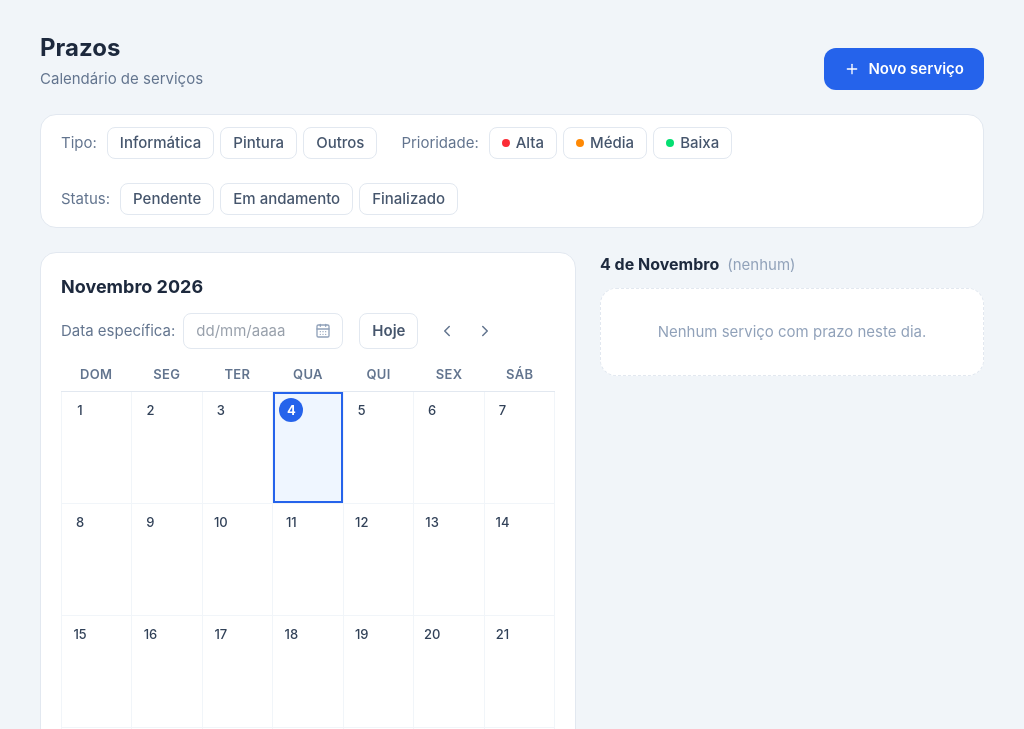
Test: calendário de Prazos › abre no mês atual, navega entre meses e "Hoje" volta para hoje
Expected: the text "Novembro 2026" is shown, x1=61 y1=273 x2=203 y2=301
Expected: the heading "4 de Novembro(nenhum)" is shown, x1=600 y1=254 x2=796 y2=274
Click the button named "Próximo mês": [485, 331] box x1=468 y1=314 x2=502 y2=348
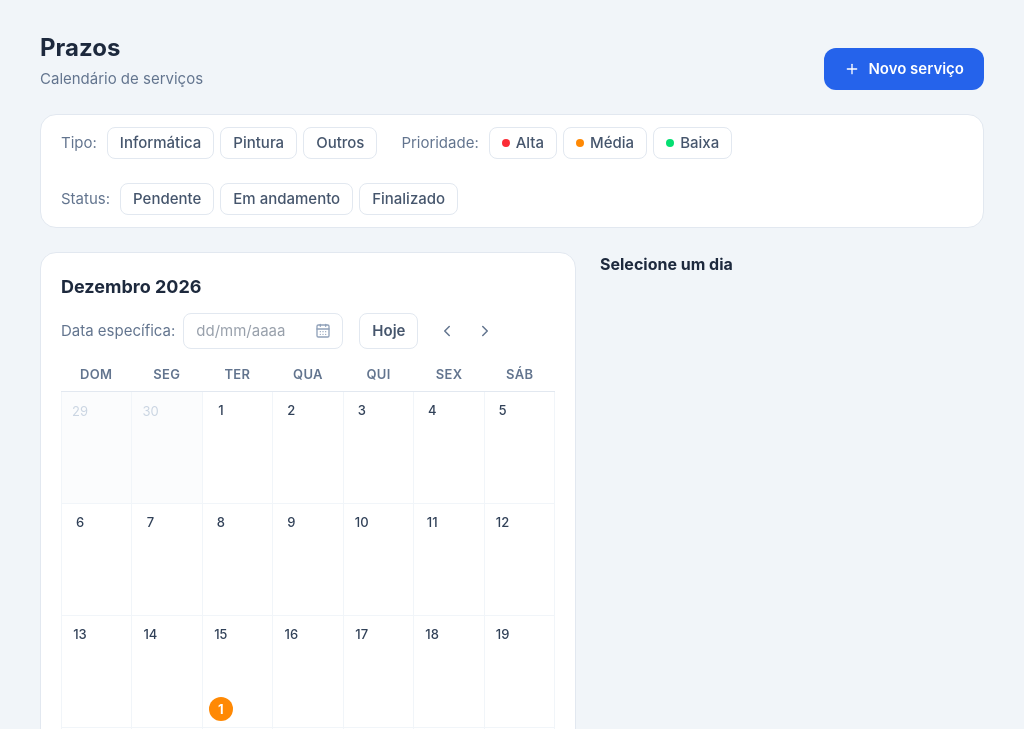
Now the text "Dezembro 2026" is shown, box x1=61 y1=273 x2=202 y2=301
Click the button named "Mês anterior": [447, 331] box x1=430 y1=314 x2=464 y2=348
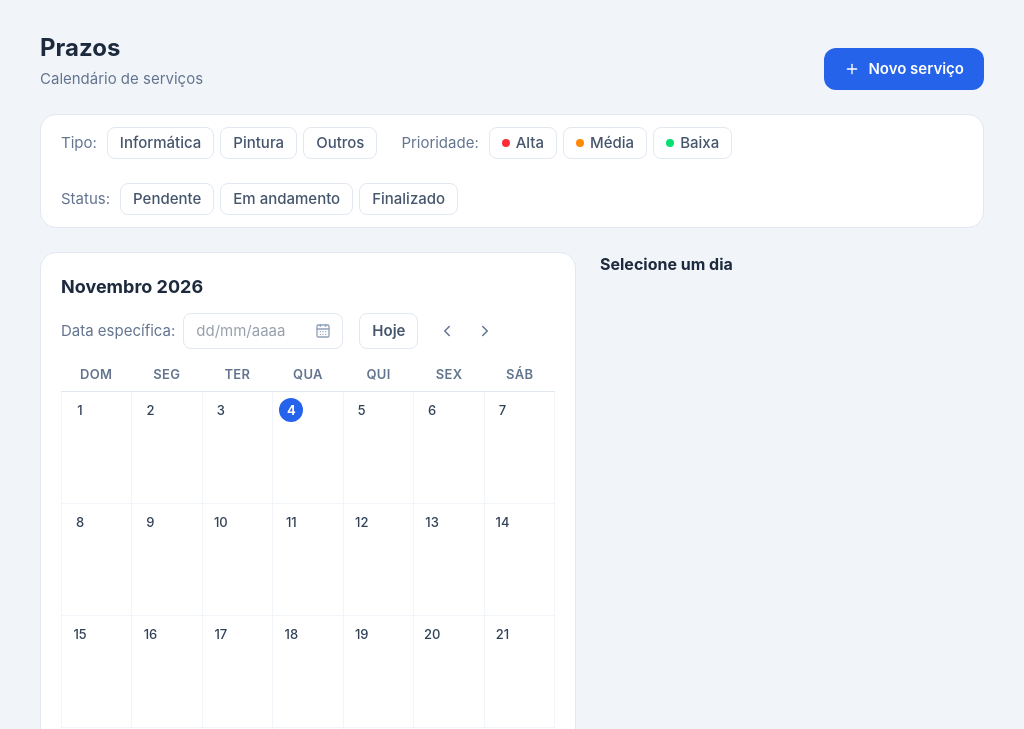
Click the button named "Mês anterior": [447, 331] box x1=430 y1=314 x2=464 y2=348
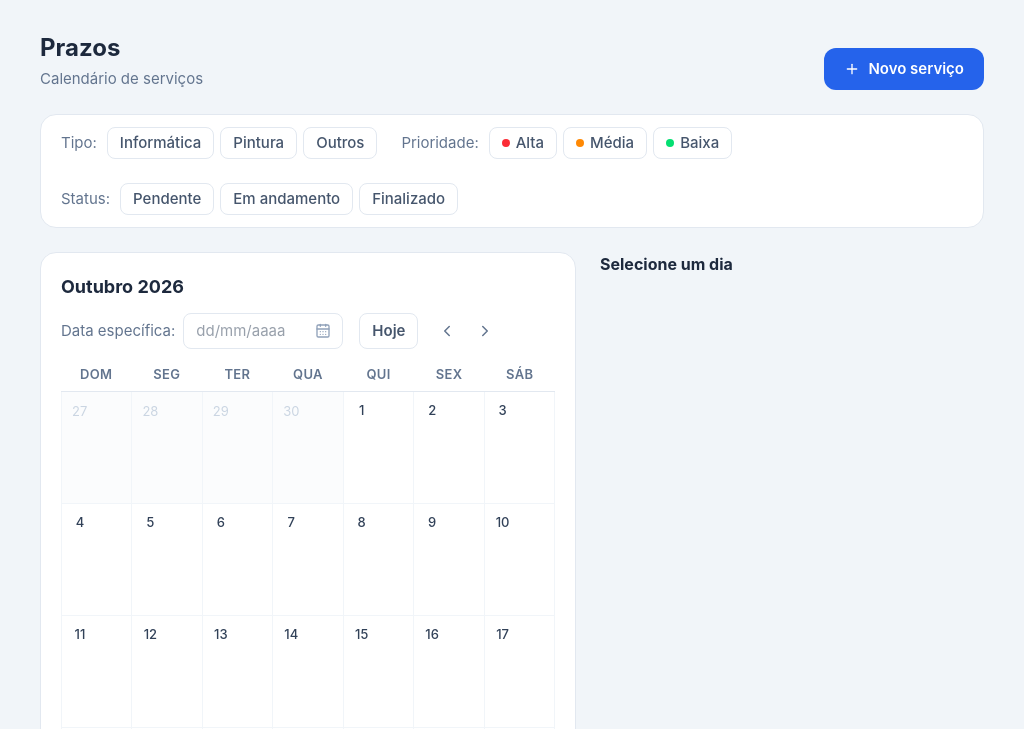
Now the text "Outubro 2026" is shown, box x1=61 y1=273 x2=184 y2=301
Click the button "Hoje": [389, 331] box x1=359 y1=313 x2=418 y2=349
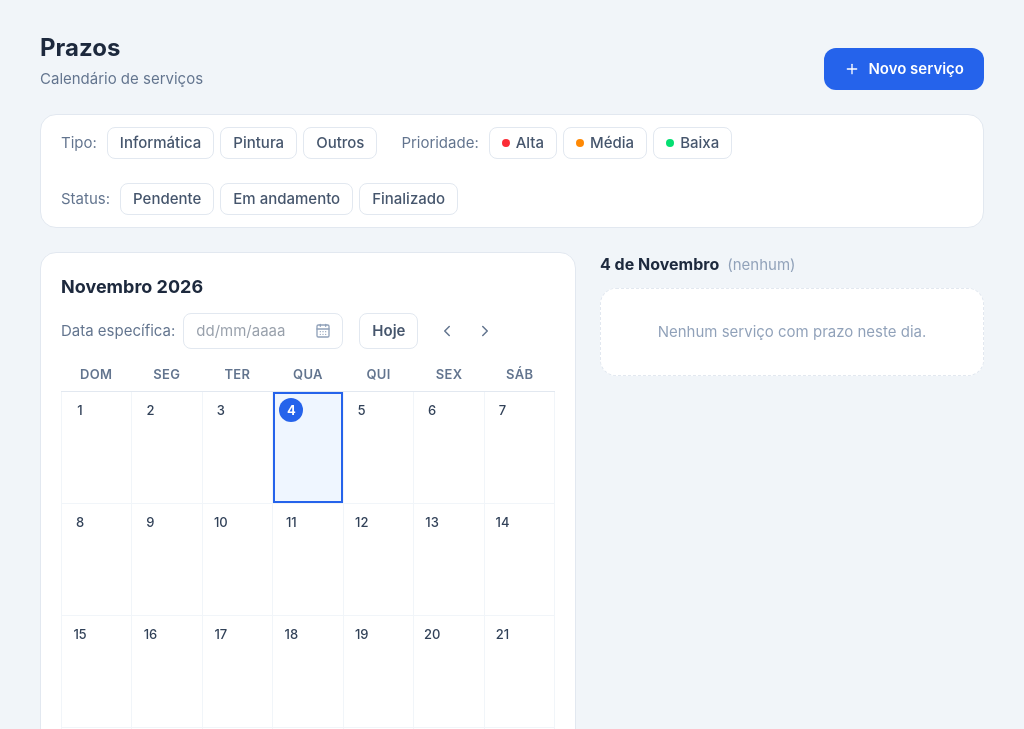
Now the text "Novembro 2026" is shown, box x1=61 y1=273 x2=203 y2=301
